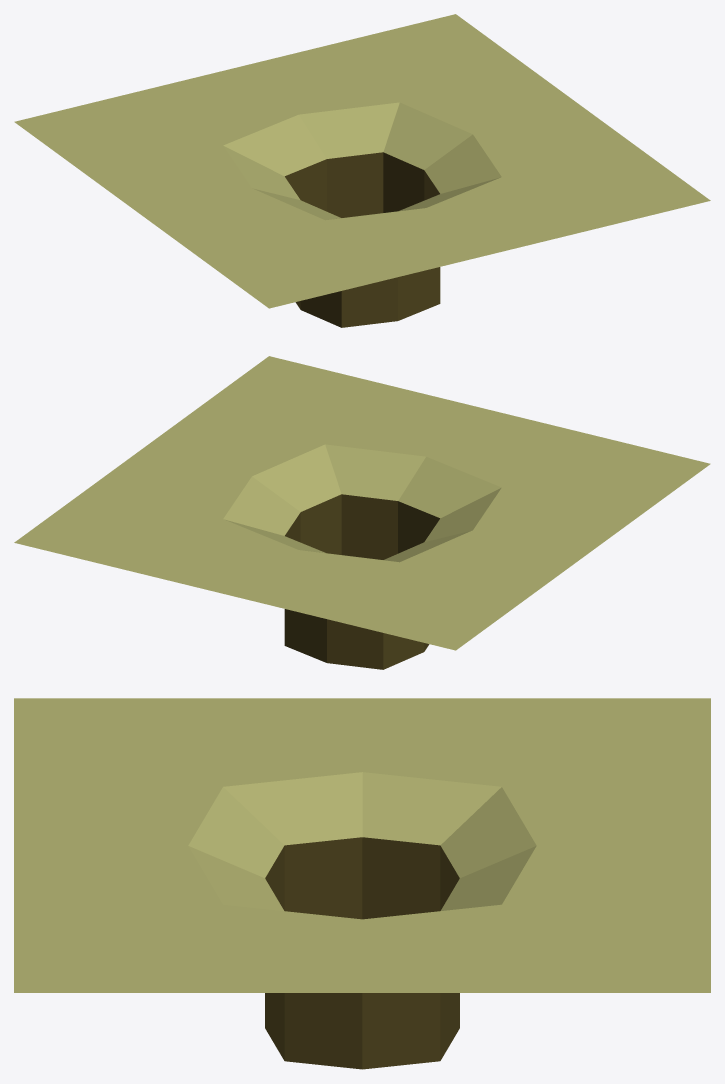
File: wackamole.fbx
3 renders of one model, top to bottom at view 1: azimuth 30°, elevation 25°; view 2: azimuth 150°, elevation 25°; view 3: azimuth 270°, elevation 25°, orthographic. The views are drawn at different scales.
Visible parts, largest first — view 1: Plane; view 2: Plane; view 3: Plane.
Boxes of the visible parts, x1,y1,x2,y2 form: Plane: (14,14,710,327); Plane: (14,356,710,669); Plane: (14,698,710,1069).
Size of the model in its own units: 400 by 122 by 400.
